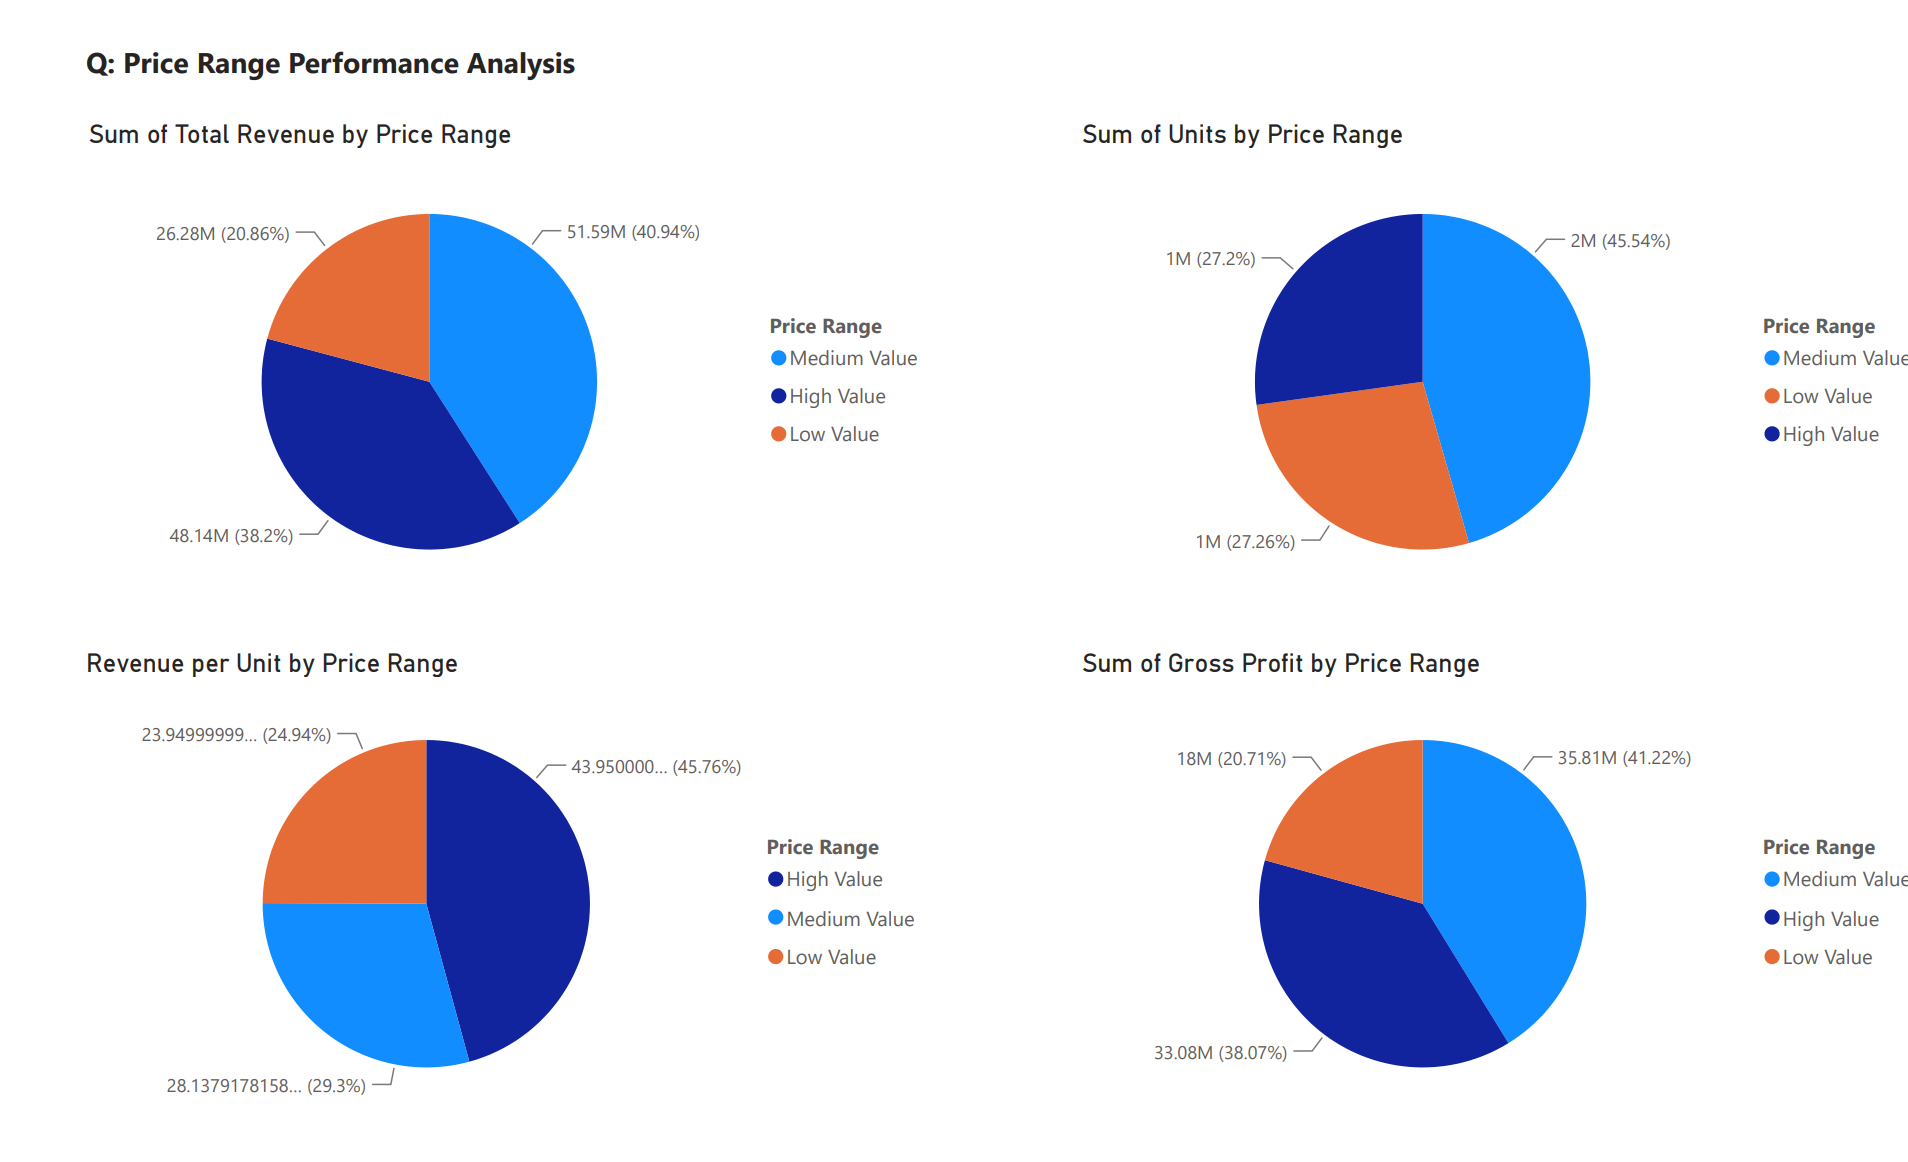

Layout of this report page (visuals, bound fields, positions):
{"tool":"powerbi","page":{"name":"Product Price Range - wise KPIs","canvas":[1280,720],"ordinal":7},"visuals":[{"type":"pieChart","fields":{"Y":["Sum(FactSales.Total Revenue)"],"Category":["Dimproducts.Price Range"]},"box":[30.8,55.1,565.1,327.1],"z":0},{"type":"pieChart","fields":{"Category":["Dimproducts.Price Range"],"Y":["Sum(FactSales.Gross Profit)"]},"box":[684.9,403.2,565.1,317.4],"z":1000},{"type":"pieChart","fields":{"Category":["Dimproducts.Price Range"],"Y":["FactSales.Revenue per Unit"]},"box":[29.1,403.2,565.1,317.4],"z":2000},{"type":"pieChart","fields":{"Category":["Dimproducts.Price Range"],"Y":["Sum(FactSales.Units)"]},"box":[684.9,55.1,565.1,327.1],"z":3000},{"type":"textbox","box":[29.1,0,1220.9,43.7],"z":4000}]}

Visuals, with their boxes on the page's 1280x720 design canvas (x1, y1, x2, y2). These are canvas units, not pixel positions in the 1908x1162 screenshot, which may show the page scaled, cropped or inside an application window:
pieChart - Sum(FactSales.Total Revenue) x Dimproducts.Price Range: 31:55:596:382
pieChart - Dimproducts.Price Range x Sum(FactSales.Gross Profit): 685:403:1250:721
pieChart - Dimproducts.Price Range x FactSales.Revenue per Unit: 29:403:594:721
pieChart - Dimproducts.Price Range x Sum(FactSales.Units): 685:55:1250:382
textbox: 29:0:1250:44
